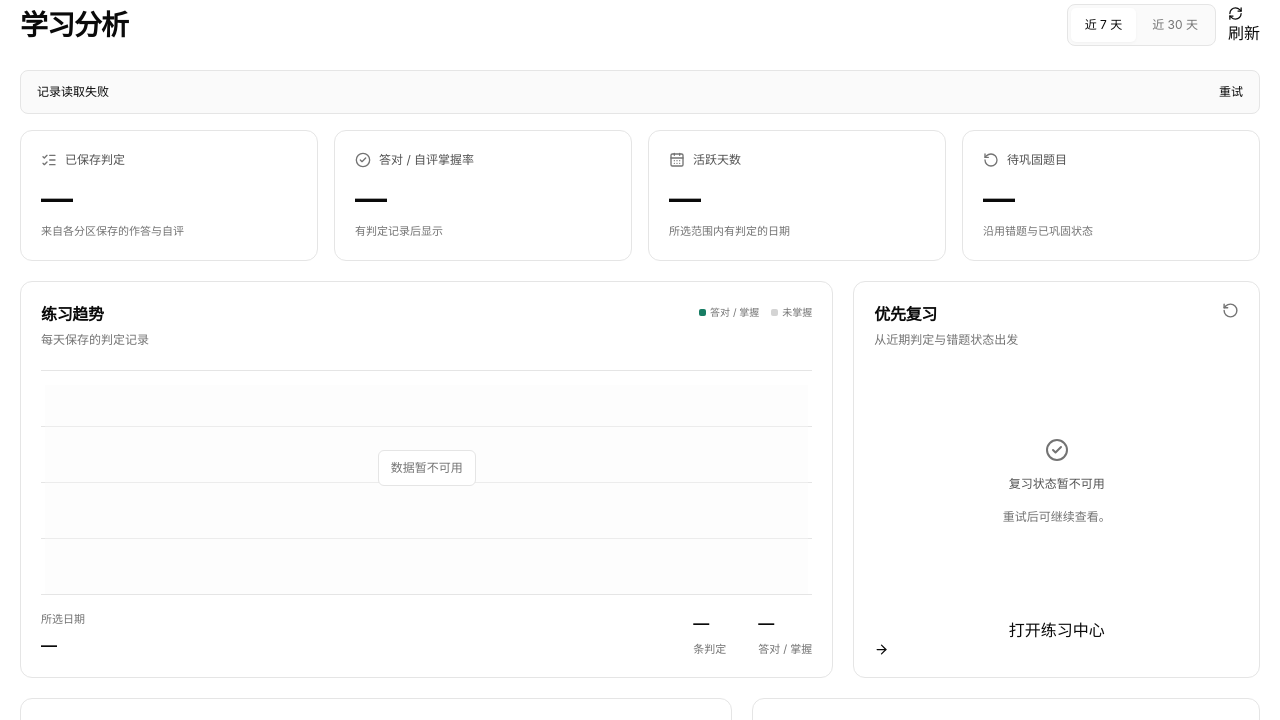
Scenario: does not turn request failure into zero counts and recovers through retry
This screenshot has width=1280, height=720.
Expected: the message "记录读取失败 重试" is shown, top-left (20, 70), bottom-right (1260, 114)
Expected: the text "—" below "已保存判定" is shown, top-left (41, 179), bottom-right (72, 218)
Click the button "重试". click: click(1231, 92)
box: top-left (1219, 83), bottom-right (1243, 101)
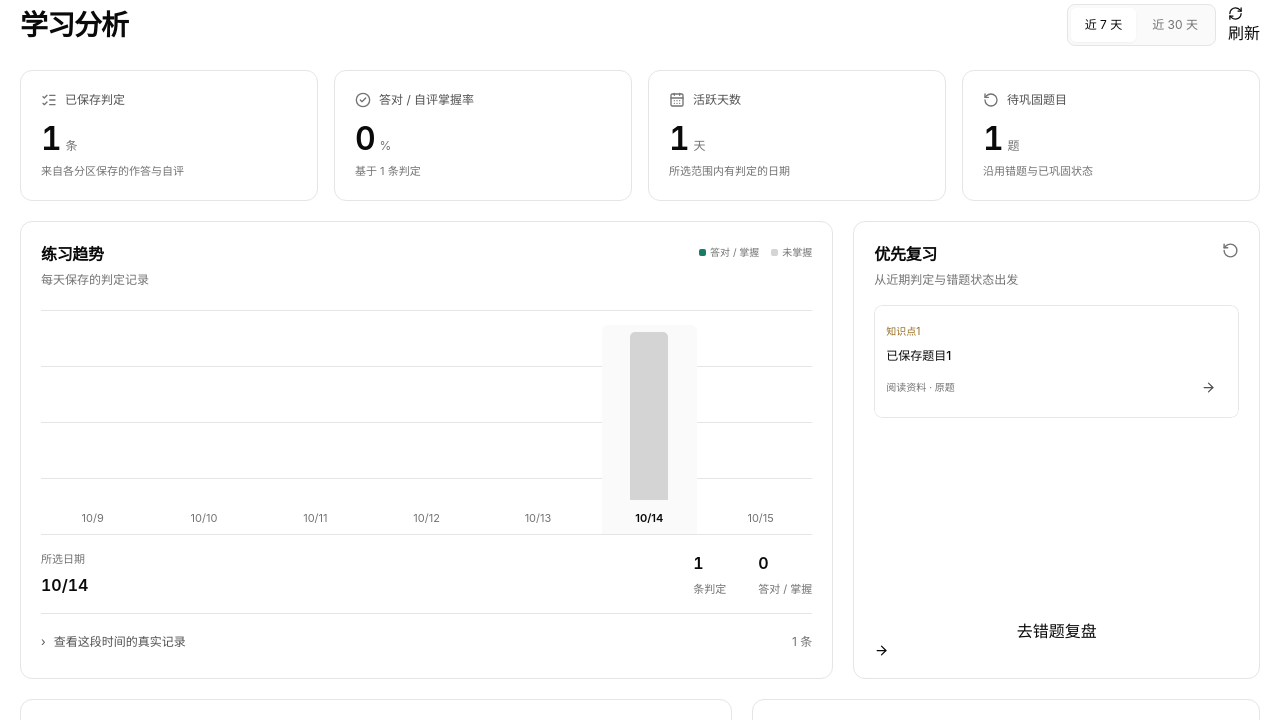
Expected: the element showing "1条" is shown, top-left (41, 119), bottom-right (78, 158)
